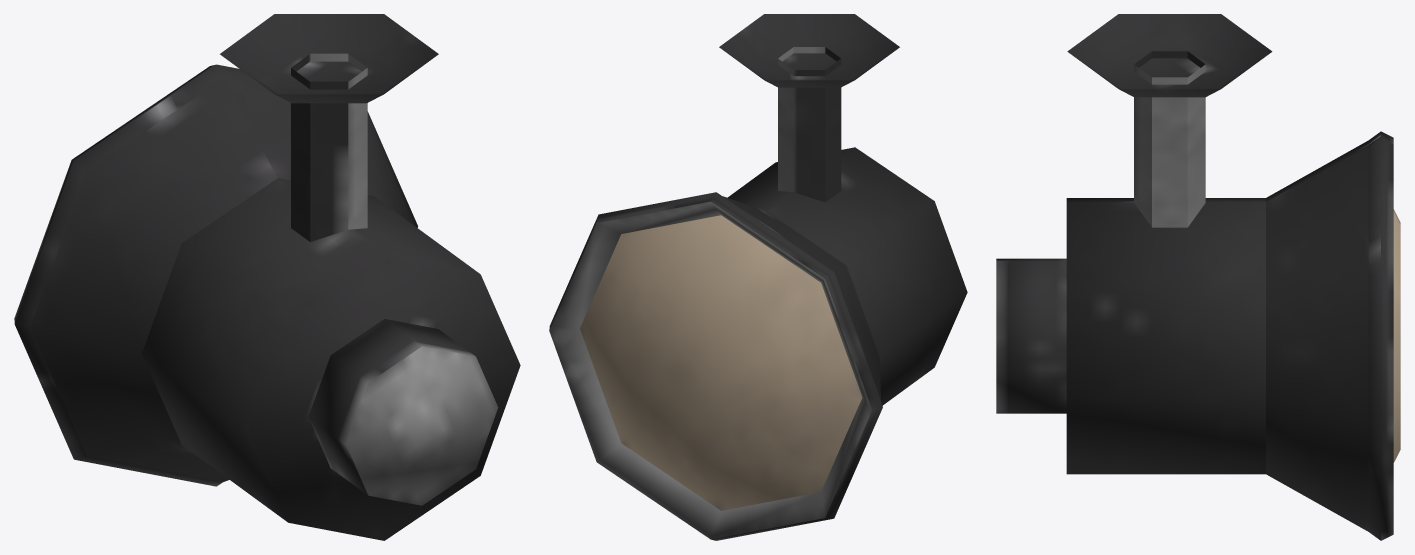
The model's file is Hot Lamp 1.fbx.
The picture shows the model from 3 angles, left to right: view 1: azimuth 30°, elevation 25°; view 2: azimuth 150°, elevation 25°; view 3: azimuth 270°, elevation 25°; orthographic projection. The views are drawn at different scales.
Visible parts, largest first — view 1: Circle.001, Hot Lamp; view 2: Circle.001, Hot Lamp; view 3: Circle.001, Hot Lamp.
Part boxes in pixels (x1=…): Circle.001: x1=14, y1=64, x2=520, y2=540; Hot Lamp: x1=220, y1=14, x2=438, y2=241; Circle.001: x1=549, y1=147, x2=967, y2=540; Hot Lamp: x1=719, y1=14, x2=899, y2=202; Circle.001: x1=996, y1=131, x2=1400, y2=540; Hot Lamp: x1=1067, y1=14, x2=1272, y2=227.
Size of the model in its own units: 19.23 by 23.46 by 17.85.
